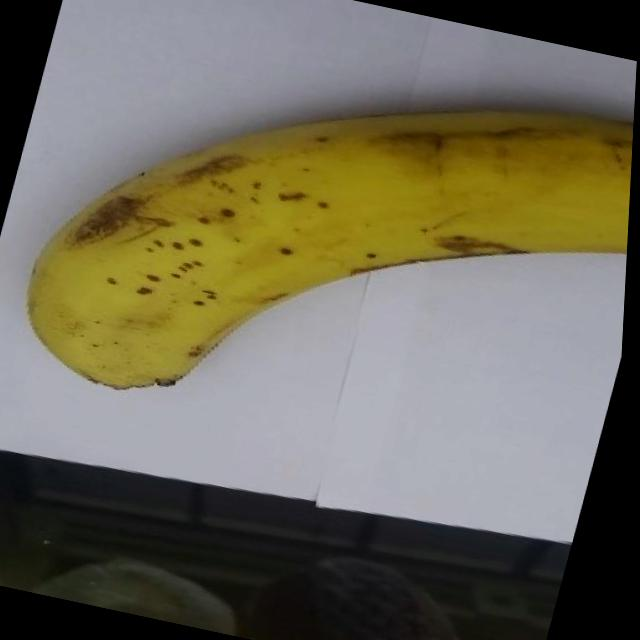Banana: (5, 5, 640, 490)
